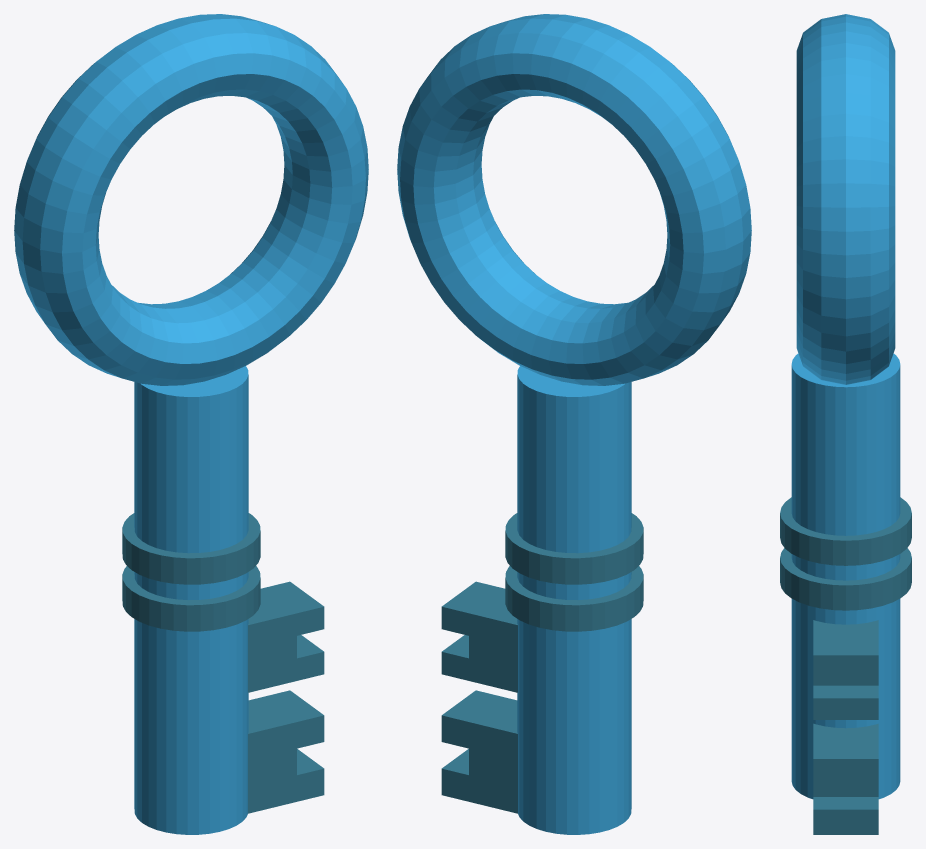
File: Key1c.fbx
3 views of the same model, side by side, from view 1: azimuth 30°, elevation 25°; view 2: azimuth 150°, elevation 25°; view 3: azimuth 270°, elevation 25° (orthographic). The views are drawn at different scales.
Visible parts, largest first — view 1: Torus.018, Keypart1.002, Keypart6.002, Keypart5.002, Keypart3.002, Keypart4.002; view 2: Torus.018, Keypart1.002, Keypart6.002, Keypart5.002, Keypart3.002, Keypart4.002; view 3: Torus.018, Keypart1.002, Keypart6.002, Keypart5.002, Keypart3.002, Keypart4.002.
Part boxes in pixels (left/top/right/bottom): Torus.018: left=14, top=14, right=368, bottom=385; Keypart1.002: left=134, top=366, right=248, bottom=834; Keypart6.002: left=248, top=690, right=324, bottom=813; Keypart5.002: left=248, top=581, right=324, bottom=692; Keypart3.002: left=122, top=513, right=260, bottom=584; Keypart4.002: left=122, top=566, right=260, bottom=631; Torus.018: left=397, top=14, right=751, bottom=385; Keypart1.002: left=517, top=366, right=631, bottom=834; Keypart6.002: left=441, top=690, right=517, bottom=813; Keypart5.002: left=441, top=581, right=517, bottom=692; Keypart3.002: left=505, top=513, right=643, bottom=584; Keypart4.002: left=505, top=566, right=643, bottom=631; Torus.018: left=796, top=14, right=895, bottom=384; Keypart1.002: left=791, top=353, right=900, bottom=799; Keypart6.002: left=813, top=723, right=878, bottom=834; Keypart5.002: left=813, top=620, right=878, bottom=719; Keypart3.002: left=780, top=497, right=911, bottom=565; Keypart4.002: left=780, top=548, right=911, bottom=610.
Size of the model in its own units: 53.14 by 118 by 18.86.
